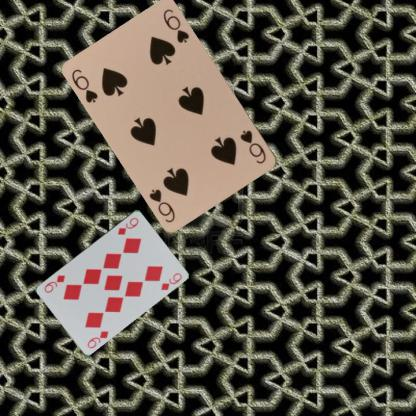6s: (69, 66, 100, 104), (238, 127, 268, 165)
9d: (84, 328, 110, 350), (115, 214, 140, 236)
